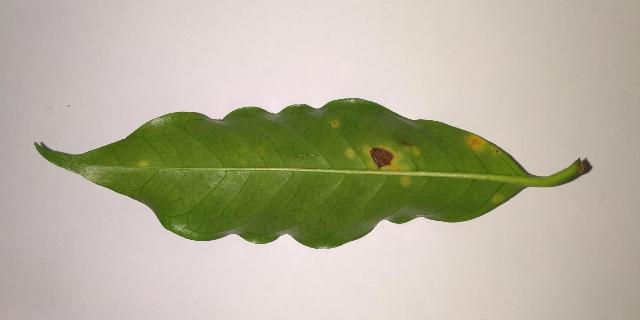miner: (361, 143, 420, 171), (463, 132, 505, 158), (344, 148, 357, 160), (492, 193, 503, 203), (400, 176, 411, 186), (331, 120, 340, 127), (138, 161, 148, 167)
